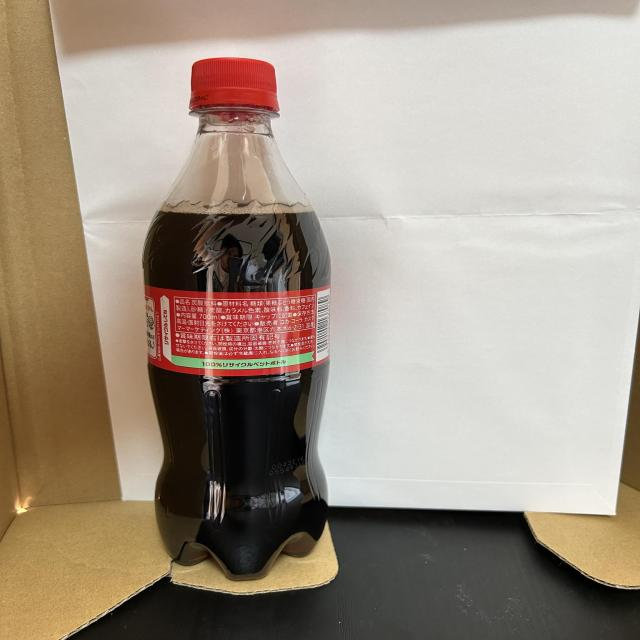high: (142, 58, 332, 579)
